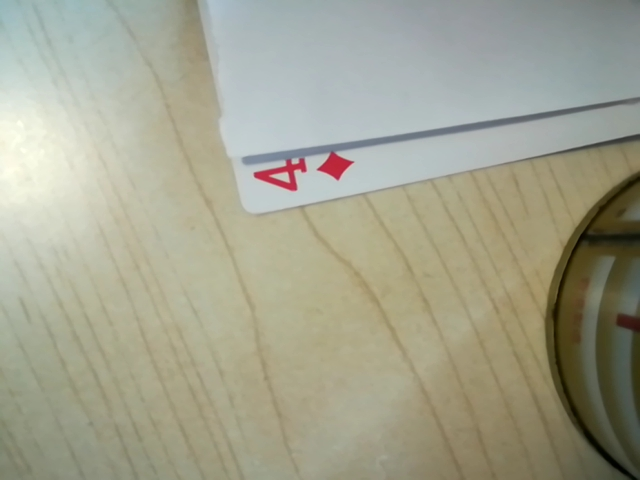fk 4: (246, 148, 356, 199)
